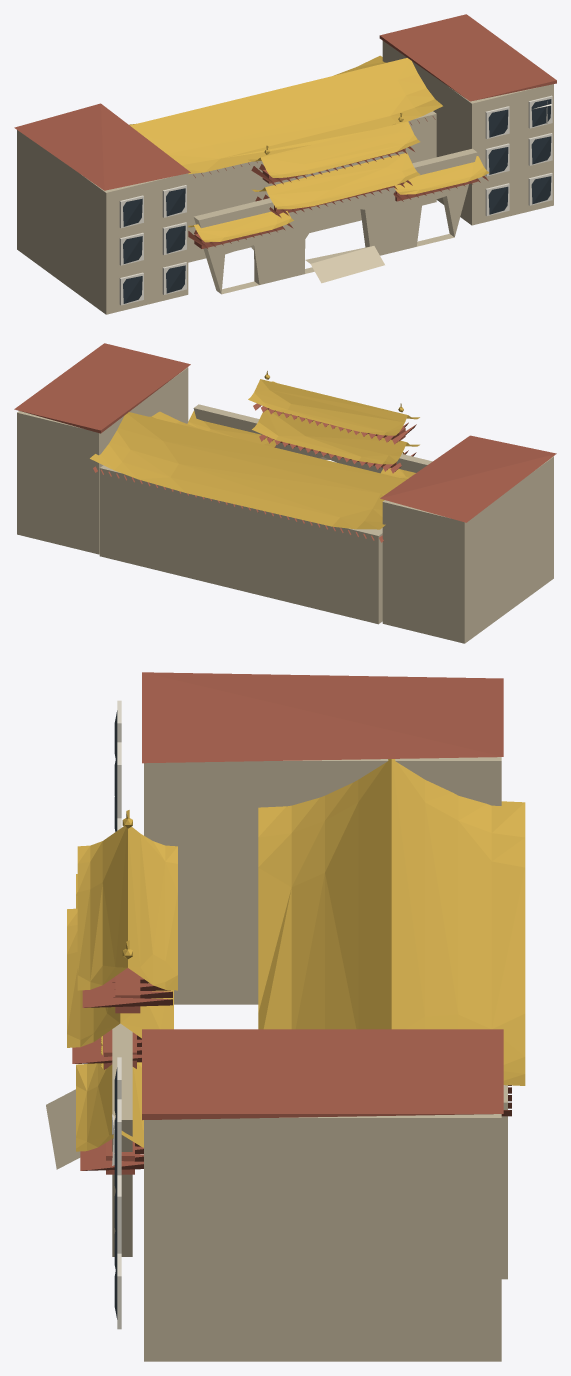
The model's file is he-hua-temple.lod1.glb.
3 renders of one model, top to bottom at view 1: azimuth 30°, elevation 25°; view 2: azimuth 150°, elevation 25°; view 3: azimuth 270°, elevation 25°, orthographic. The views are drawn at different scales.
Parts seen in each view (by area): view 1: he-hua-temple; view 2: he-hua-temple; view 3: he-hua-temple.
Part boxes in pixels (x1,y1,x2,y2): he-hua-temple: (14, 14, 556, 314); he-hua-temple: (14, 343, 556, 643); he-hua-temple: (46, 672, 525, 1361).
Size of the model in its own units: 38.08 by 10.75 by 17.47.
